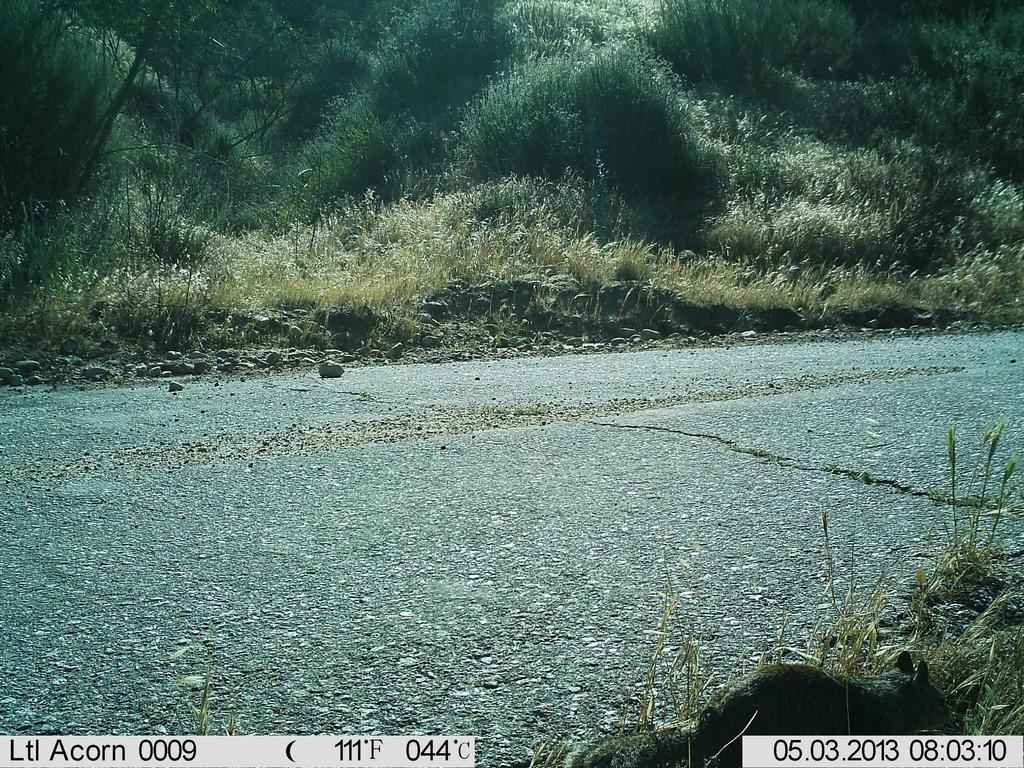squirrel: (697, 641, 969, 757)
